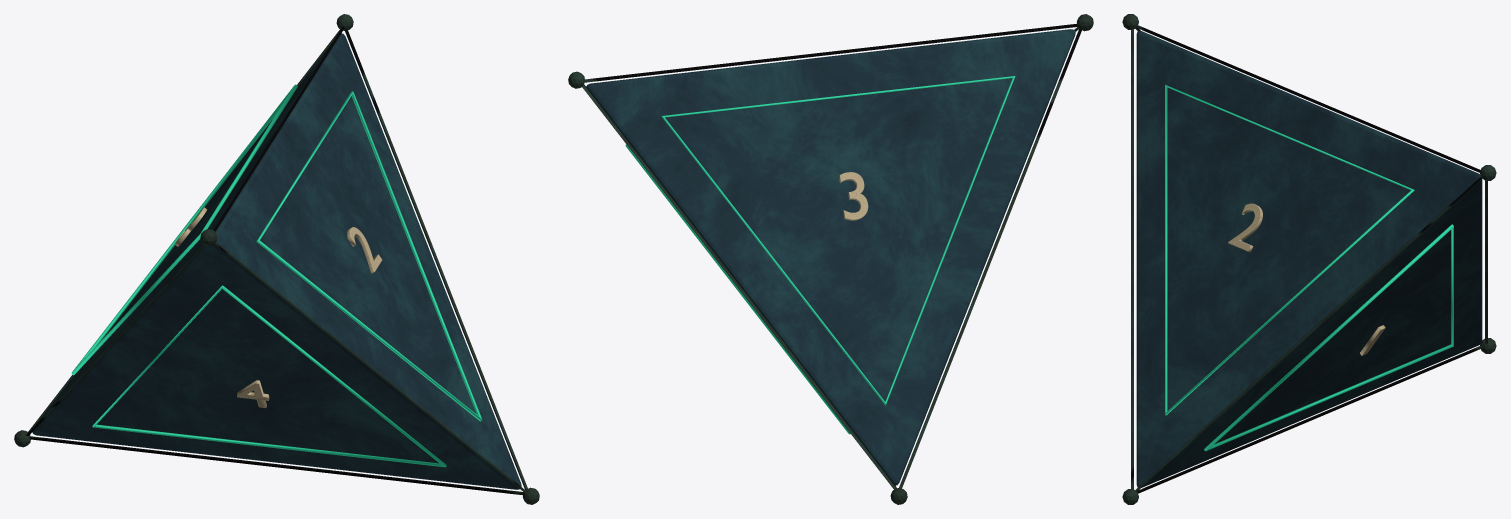
The model's file is D4_四面骰_baked.glb.
3 views of the same model, side by side, from view 1: azimuth 30°, elevation 25°; view 2: azimuth 150°, elevation 25°; view 3: azimuth 270°, elevation 25° (orthographic). The views are drawn at different scales.
Visible parts, largest first — view 1: D4_Body_4_Faces, D4_Occult_Face_Borders, D4_Aged_Bronze_Edges, D4_Vertex_Studs; view 2: D4_Body_4_Faces, D4_Aged_Bronze_Edges, D4_Occult_Face_Borders, D4_Face_03_3, D4_Vertex_Studs; view 3: D4_Body_4_Faces, D4_Aged_Bronze_Edges, D4_Occult_Face_Borders, D4_Vertex_Studs, D4_Face_02_2.
Part boxes in pixels (left/top/right/bottom): D4_Body_4_Faces: left=32, top=33, right=521, bottom=489; D4_Occult_Face_Borders: left=71, top=84, right=482, bottom=467; D4_Aged_Bronze_Edges: left=26, top=26, right=527, bottom=495; D4_Vertex_Studs: left=14, top=14, right=539, bottom=504; D4_Body_4_Faces: left=586, top=29, right=1075, bottom=485; D4_Aged_Bronze_Edges: left=582, top=23, right=1081, bottom=489; D4_Occult_Face_Borders: left=625, top=76, right=1015, bottom=434; D4_Face_03_3: left=839, top=172, right=868, bottom=220; D4_Vertex_Studs: left=568, top=14, right=1093, bottom=504; D4_Body_4_Faces: left=1136, top=31, right=1482, bottom=487; D4_Aged_Bronze_Edges: left=1131, top=24, right=1487, bottom=493; D4_Occult_Face_Borders: left=1165, top=84, right=1453, bottom=451; D4_Vertex_Studs: left=1122, top=14, right=1496, bottom=504; D4_Face_02_2: left=1228, top=203, right=1262, bottom=252.
Bounding box in the file's own units: 2.45 × 2.45 × 2.45.
8 materials, 7 textured.
